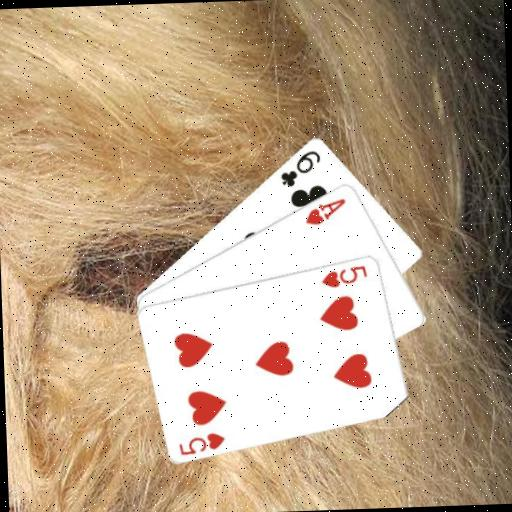5H: (175, 428, 227, 457), (318, 261, 370, 289)
6C: (276, 146, 323, 188)
AH: (301, 194, 348, 226)
